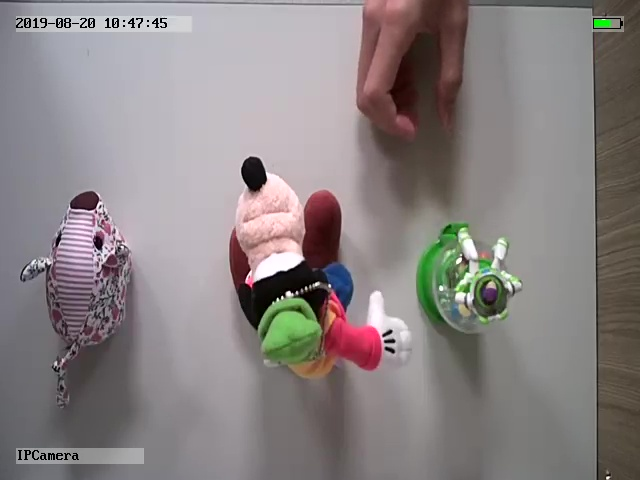buzz: (415, 221, 525, 341)
goofy: (226, 154, 413, 383)
pig: (18, 190, 132, 408)
